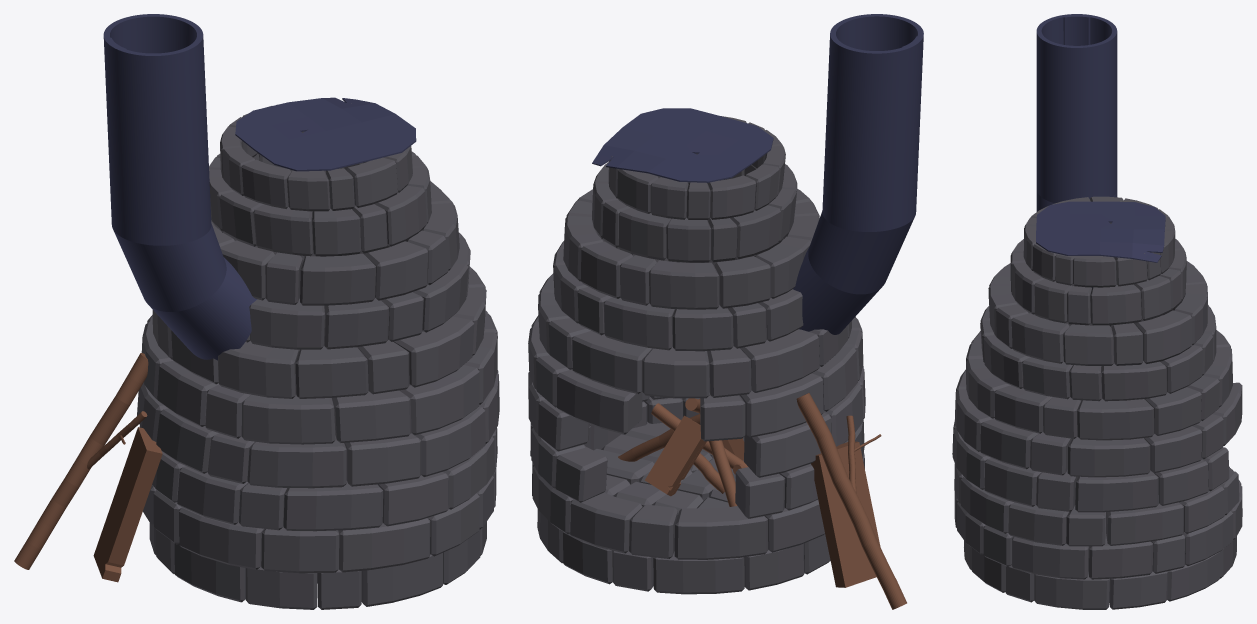
The model's file is Ofen.fbx.
3 renders of one model, left to right at view 1: azimuth 30°, elevation 25°; view 2: azimuth 150°, elevation 25°; view 3: azimuth 270°, elevation 25°, orthographic. The views are drawn at different scales.
Visible parts, largest first — view 1: Cube.078, Cylinder, Plane, Cylinder.001, Cylinder.013; view 2: Cube.078, Cylinder, Plane, Cylinder.009, Cylinder.013, Cylinder.001; view 3: Cube.078, Cylinder, Plane.
Boxes of the visible parts, left/top/right/bottom form: Cube.078: left=137, top=103, right=499, bottom=609; Cylinder: left=103, top=14, right=257, bottom=360; Plane: left=235, top=97, right=416, bottom=171; Cylinder.001: left=14, top=353, right=148, bottom=569; Cylinder.013: left=93, top=427, right=162, bottom=582; Cube.078: left=528, top=116, right=865, bottom=594; Cylinder: left=792, top=14, right=923, bottom=334; Plane: left=592, top=108, right=773, bottom=182; Cylinder.009: left=618, top=398, right=747, bottom=506; Cylinder.013: left=811, top=441, right=880, bottom=587; Cylinder.001: left=796, top=393, right=906, bottom=609; Cube.078: left=952, top=196, right=1242, bottom=609; Cylinder: left=1036, top=14, right=1117, bottom=288; Plane: left=1036, top=201, right=1165, bottom=262.
Bounding box in the file's own units: 219 × 281 × 163.
